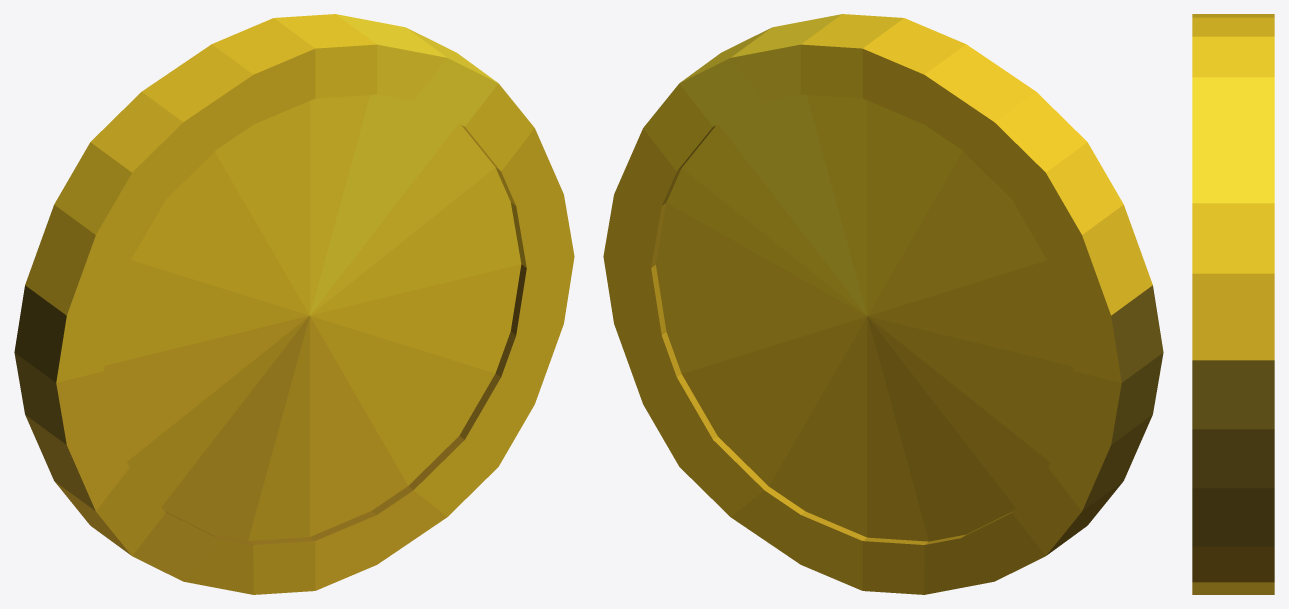
Rendered from coin.fbx.
3 renders of one model, left to right at view 1: azimuth 30°, elevation 25°; view 2: azimuth 150°, elevation 25°; view 3: azimuth 270°, elevation 25°, orthographic.
Parts seen in each view (by area): view 1: Cylinder; view 2: Cylinder; view 3: Cylinder.
Boxes of the visible parts, bbox=[...] form: Cylinder: bbox=[14, 14, 574, 594]; Cylinder: bbox=[603, 14, 1163, 594]; Cylinder: bbox=[1192, 14, 1274, 594].
Size of the model in its own units: 35.63 by 35.63 by 4.98.
